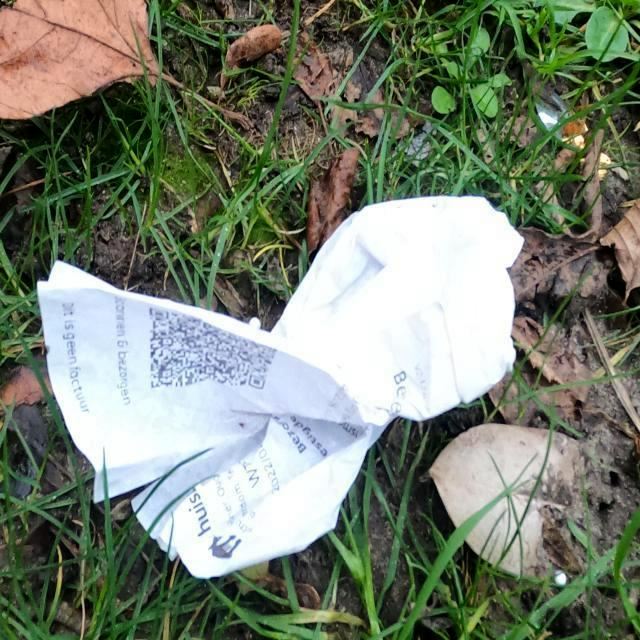Paper: (29, 188, 528, 586)
